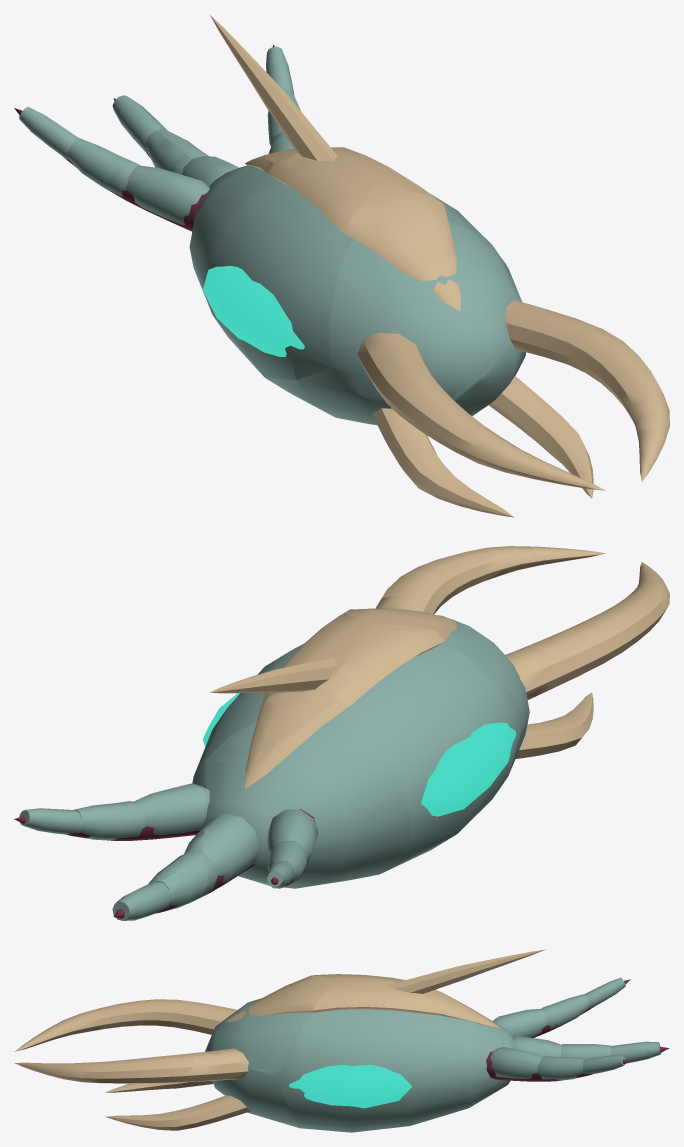
File: brood_wreck.glb
3 views of the same model, one above another, from view 1: azimuth 30°, elevation 25°; view 2: azimuth 150°, elevation 25°; view 3: azimuth 270°, elevation 25° (orthographic). The views are drawn at different scales.
Visible parts, largest first — view 1: brood_wreck_01, brood_wreck_06, brood_wreck_00, brood_wreck_05, brood_wreck_10, brood_wreck_04, brood_wreck_03, brood_wreck_09, brood_wreck_08, brood_wreck_11, brood_wreck_07, brood_wreck_02; view 2: brood_wreck_00, brood_wreck_06, brood_wreck_02, brood_wreck_01, brood_wreck_07, brood_wreck_05, brood_wreck_08, brood_wreck_04, brood_wreck_03, brood_wreck_09, brood_wreck_11; view 3: brood_wreck_08, brood_wreck_01, brood_wreck_10, brood_wreck_02, brood_wreck_04, brood_wreck_00, brood_wreck_07, brood_wreck_05, brood_wreck_03, brood_wreck_09, brood_wreck_06.
Boxes of the visible parts, x1,y1,x2,y2 form: brood_wreck_01: [328, 188, 545, 418]; brood_wreck_06: [203, 157, 374, 380]; brood_wreck_00: [107, 155, 274, 307]; brood_wreck_05: [374, 367, 593, 517]; brood_wreck_10: [455, 307, 593, 476]; brood_wreck_04: [549, 318, 669, 483]; brood_wreck_03: [14, 95, 176, 190]; brood_wreck_09: [447, 417, 665, 490]; brood_wreck_08: [292, 135, 514, 283]; brood_wreck_11: [265, 368, 391, 433]; brood_wreck_07: [210, 15, 319, 163]; brood_wreck_02: [142, 45, 300, 158]; brood_wreck_00: [199, 700, 410, 898]; brood_wreck_06: [331, 625, 523, 872]; brood_wreck_02: [14, 758, 207, 911]; brood_wreck_01: [341, 606, 590, 730]; brood_wreck_07: [207, 662, 338, 762]; brood_wreck_05: [525, 598, 660, 756]; brood_wreck_08: [194, 613, 372, 774]; brood_wreck_04: [382, 546, 533, 614]; brood_wreck_03: [112, 843, 306, 920]; brood_wreck_09: [531, 546, 669, 621]; brood_wreck_11: [350, 728, 534, 880]; brood_wreck_08: [277, 978, 469, 1132]; brood_wreck_01: [181, 975, 334, 1076]; brood_wreck_10: [130, 1052, 294, 1130]; brood_wreck_02: [467, 1044, 652, 1098]; brood_wreck_04: [50, 1053, 194, 1123]; brood_wreck_00: [435, 989, 560, 1110]; brood_wreck_07: [412, 949, 545, 1050]; brood_wreck_05: [103, 999, 213, 1124]; brood_wreck_03: [548, 977, 669, 1060]; brood_wreck_09: [14, 1006, 111, 1075]; brood_wreck_06: [311, 974, 405, 983].
Bounding box in the file's own units: 1.5 × 1.48 × 5.05.
